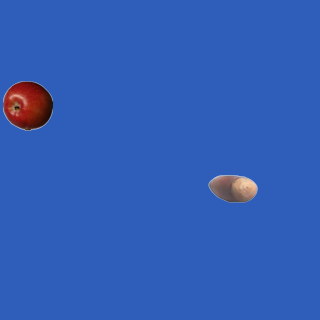Apple Braeburn: (2, 80, 52, 130)
Hazelnut: (207, 163, 257, 213)
